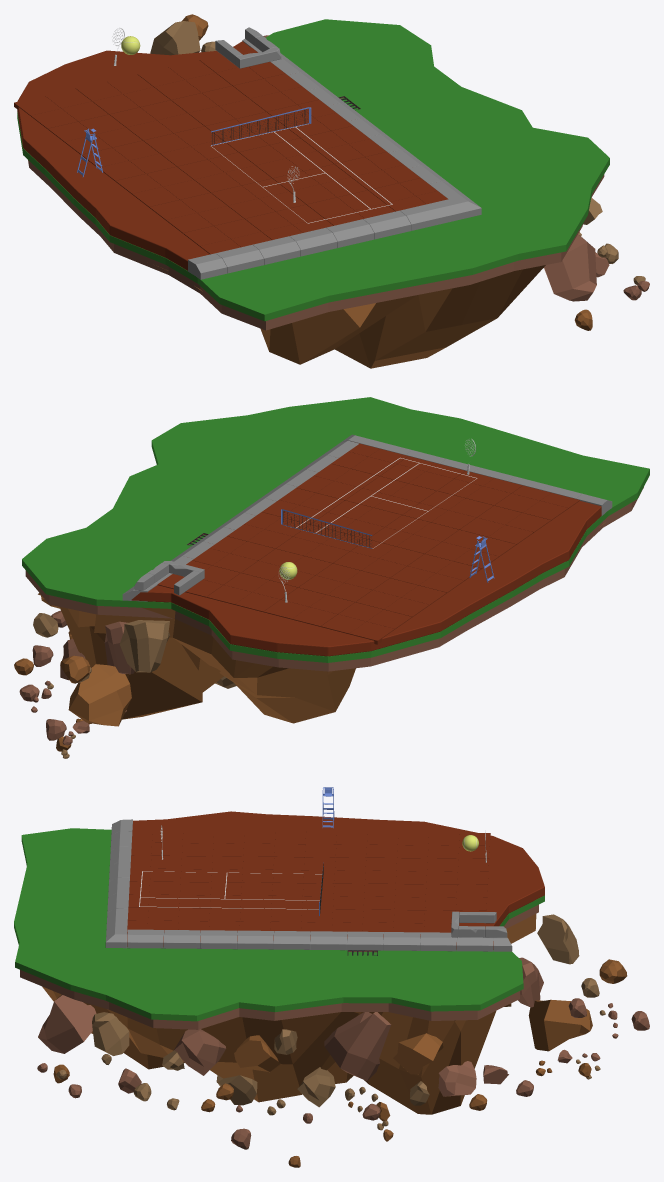
The model's file is talan-tennis.glb.
3 renders of one model, top to bottom at view 1: azimuth 30°, elevation 25°; view 2: azimuth 150°, elevation 25°; view 3: azimuth 270°, elevation 25°, orthographic. The views are drawn at different scales.
Parts seen in each view (by area): view 1: Plane.056, Plane.050, Plane.003, Plane.005, Cube.006, Cube.001, Cube.021, Plane.027, Cube.027, Net, Cube.007, Lines; view 2: Plane.056, Plane.050, Plane.005, Plane.002, Plane.004, Cube.001, Cube.026, Cube.027, Cube.006, Plane.027, Cube.020, Net (+2 smaller); view 3: Plane.056, Plane.050, Plane.005, Plane.002, Cube.001, Plane.004, Cube.015, Cube.026, Cube.021, Cube.006, Cube.016, Cube.027 (+9 smaller).
Boxes of the visible parts, box(x1,y1,x2,y2) form: Plane.056: box(17, 19, 609, 330); Plane.050: box(14, 47, 447, 254); Plane.003: box(158, 265, 545, 368); Plane.005: box(17, 41, 250, 270); Cube.006: box(188, 202, 447, 279); Cube.001: box(242, 39, 469, 199); Cube.021: box(544, 234, 596, 301); Plane.027: box(215, 27, 281, 68); Cube.027: box(150, 21, 200, 55); Net: box(211, 107, 311, 145); Cube.007: box(437, 196, 481, 222); Lines: box(211, 124, 392, 223); Plane.056: box(22, 397, 649, 671); Plane.050: box(157, 443, 579, 644); Plane.005: box(131, 501, 601, 656); Plane.002: box(94, 607, 355, 723); Plane.004: box(59, 607, 223, 719); Cube.001: box(122, 440, 358, 601); Cube.026: box(68, 664, 131, 726); Cube.027: box(119, 620, 169, 672); Cube.006: box(371, 441, 612, 515); Plane.027: box(134, 561, 204, 595); Cube.020: box(104, 621, 134, 674); Net: box(281, 509, 372, 548); Plane.056: box(14, 828, 544, 1029); Plane.050: box(127, 829, 490, 936); Plane.005: box(127, 811, 544, 949); Plane.002: box(107, 914, 536, 1102); Cube.001: box(127, 929, 512, 951); Plane.004: box(356, 1003, 511, 1114); Cube.015: box(324, 1012, 391, 1080); Cube.026: box(528, 999, 592, 1051); Cube.021: box(38, 994, 96, 1053); Cube.006: box(106, 819, 132, 927); Cube.016: box(173, 1029, 225, 1075); Cube.027: box(537, 914, 579, 964).
Bounding box in the file's own units: 32.69 × 15.19 × 41.82.
